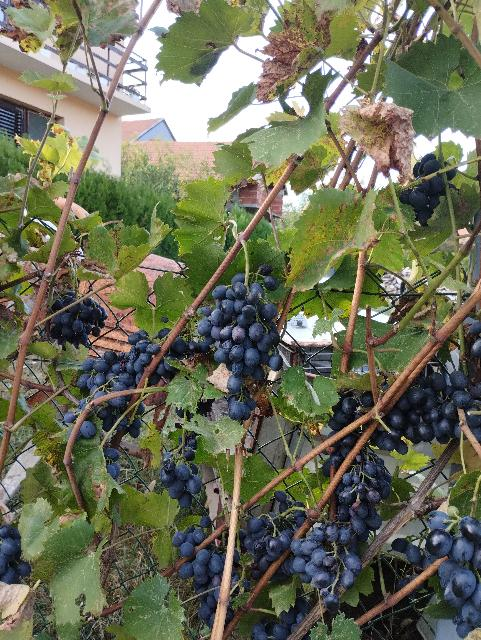grapes: (198, 265, 284, 420)
